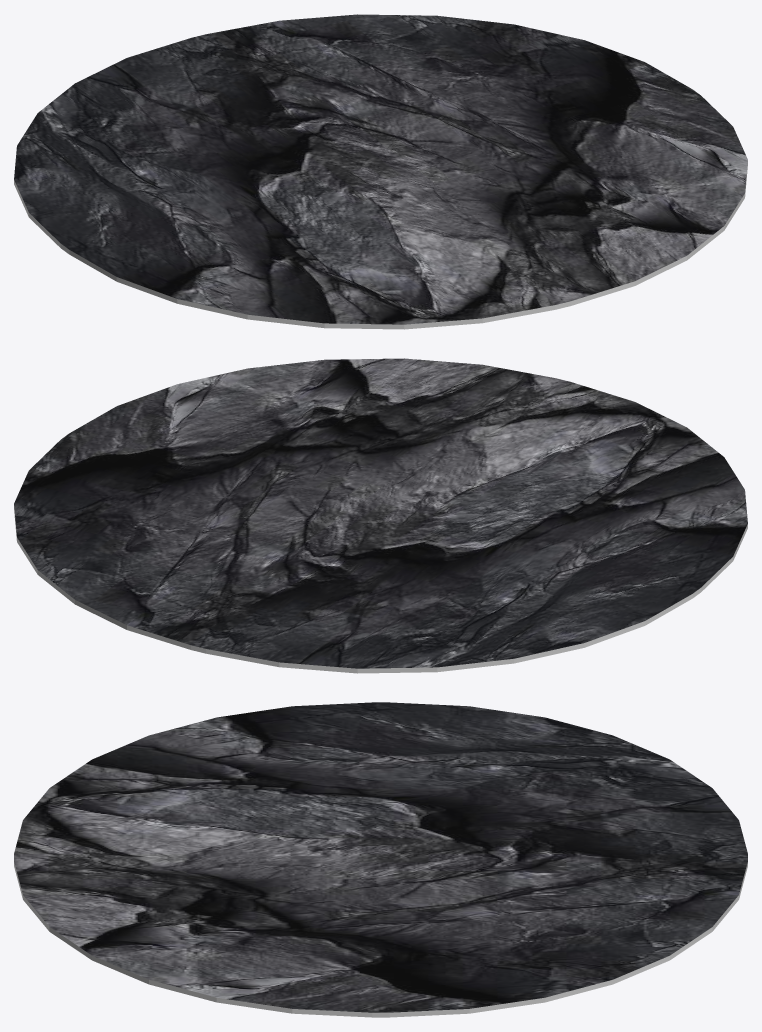
The model's file is arena.glb.
3 renders of one model, top to bottom at view 1: azimuth 30°, elevation 25°; view 2: azimuth 150°, elevation 25°; view 3: azimuth 270°, elevation 25°, orthographic.
Visible parts, largest first — view 1: Field; view 2: Field; view 3: Field.
Part boxes in pixels (x1,y1,x2,y2): Field: [14, 14, 747, 329]; Field: [14, 358, 747, 673]; Field: [14, 702, 747, 1017].
Size of the model in its own units: 10.99 by 0.08 by 10.99.
Materials: 2 (1 with a texture image).
